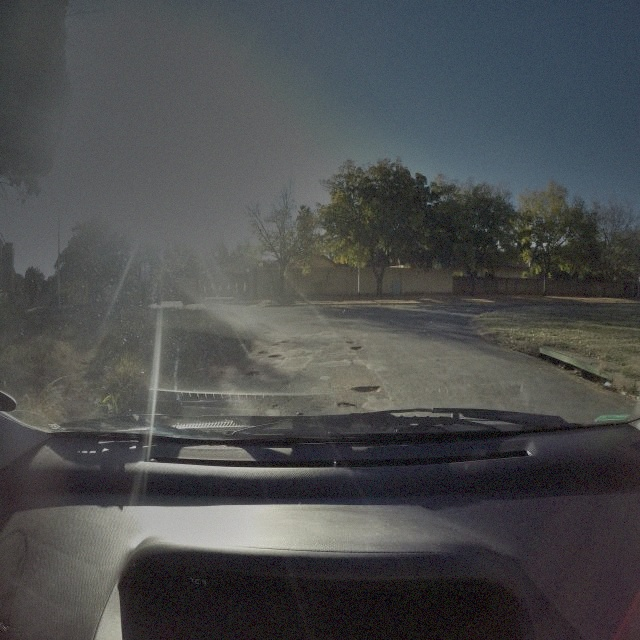pothole: (349, 384, 382, 394), (335, 399, 358, 410), (245, 368, 262, 378), (350, 346, 364, 352), (258, 349, 270, 356), (268, 354, 284, 359), (345, 338, 355, 345)
